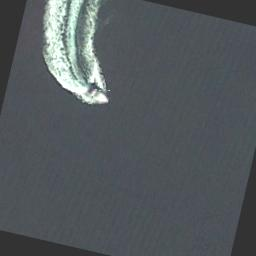boat: (81, 84, 110, 104)
